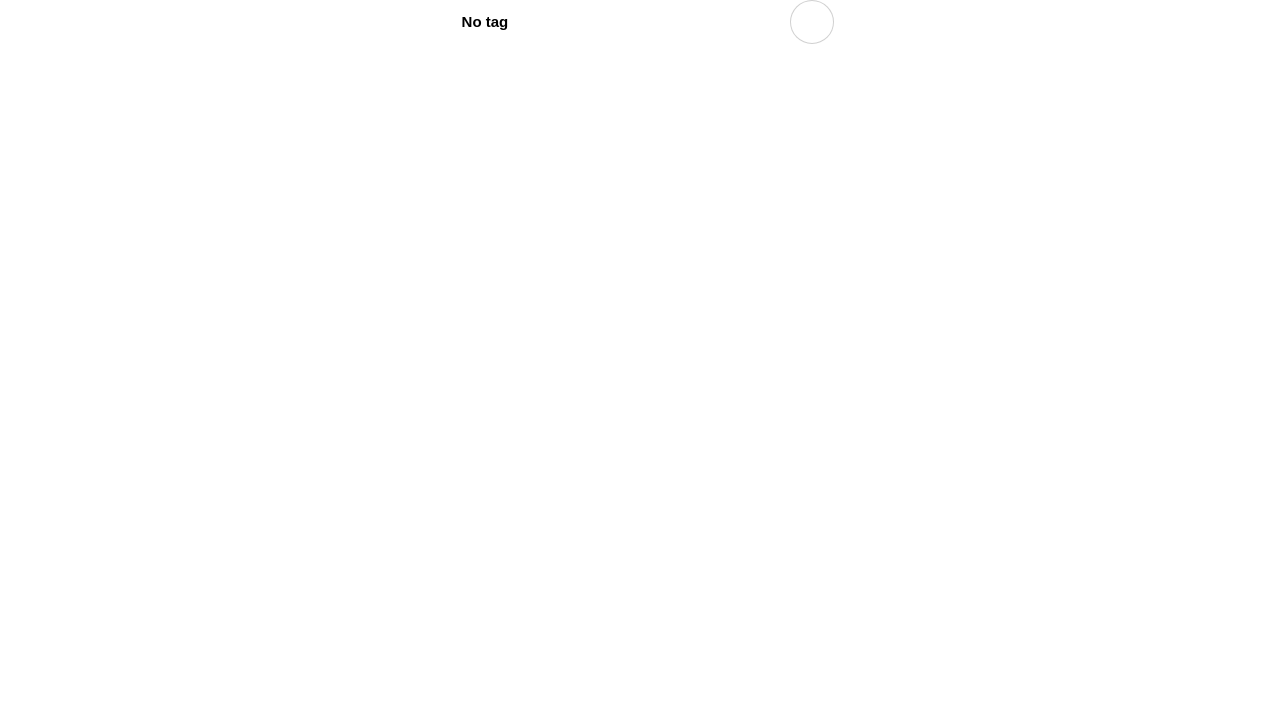
it: TagPicker: renaming and removing a tag (Packet 10G) › shows the new name when the hook gives a list with the tag renamed, and the row of a removed tag is gone
The width and height of the screenshot is (1280, 720).
What coordinates should you click on to do the following:
click the button with class "ab-tag-dots"
I would click on:
 (812, 22)
Its box is [790,0,834,44].
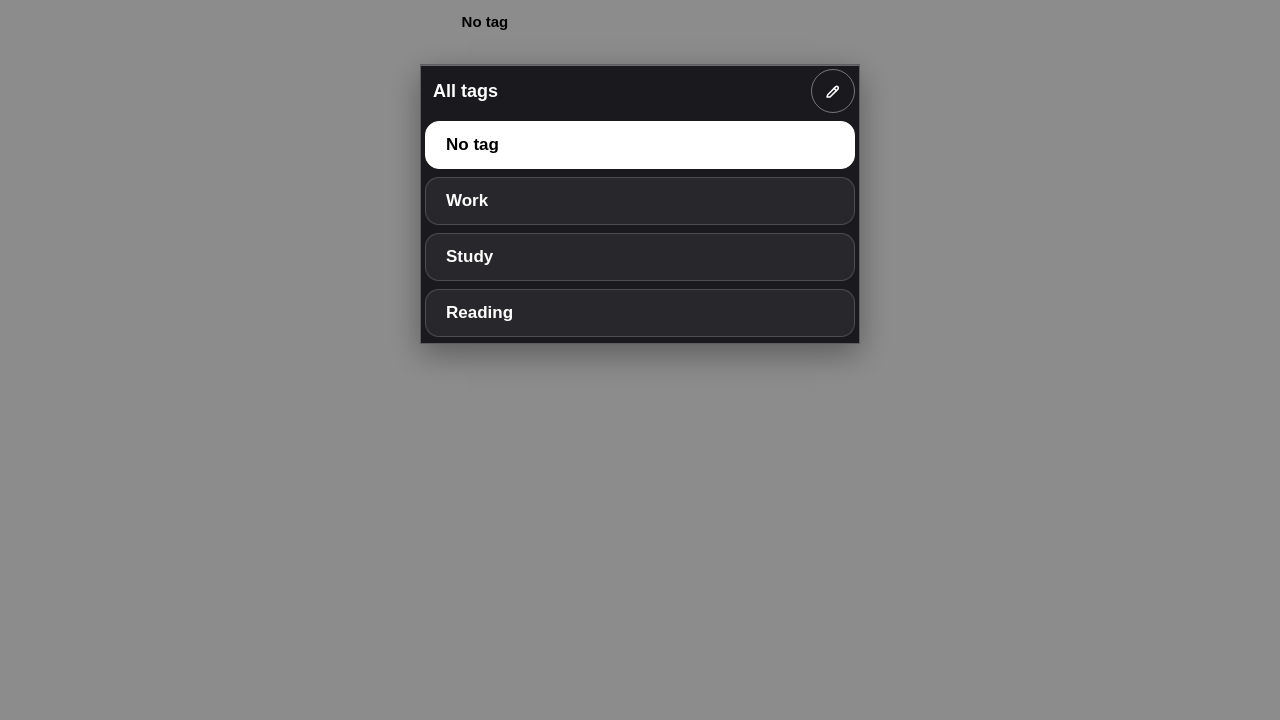
What coordinates should you click on to do the following:
click the button with class "ab-tag-edit-button"
I would click on:
 (833, 91)
Its box is [811,69,855,113].
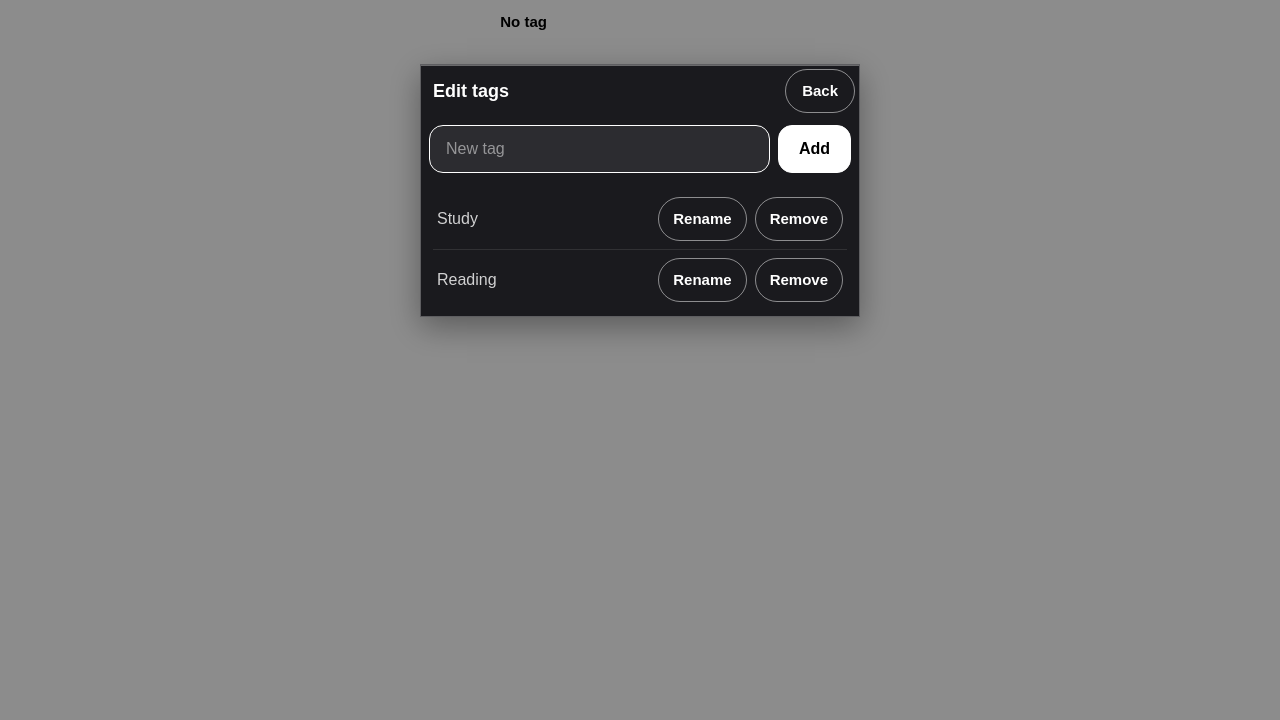
expect the 1st button "Rename" is shown: met, box [658,197,747,241]
